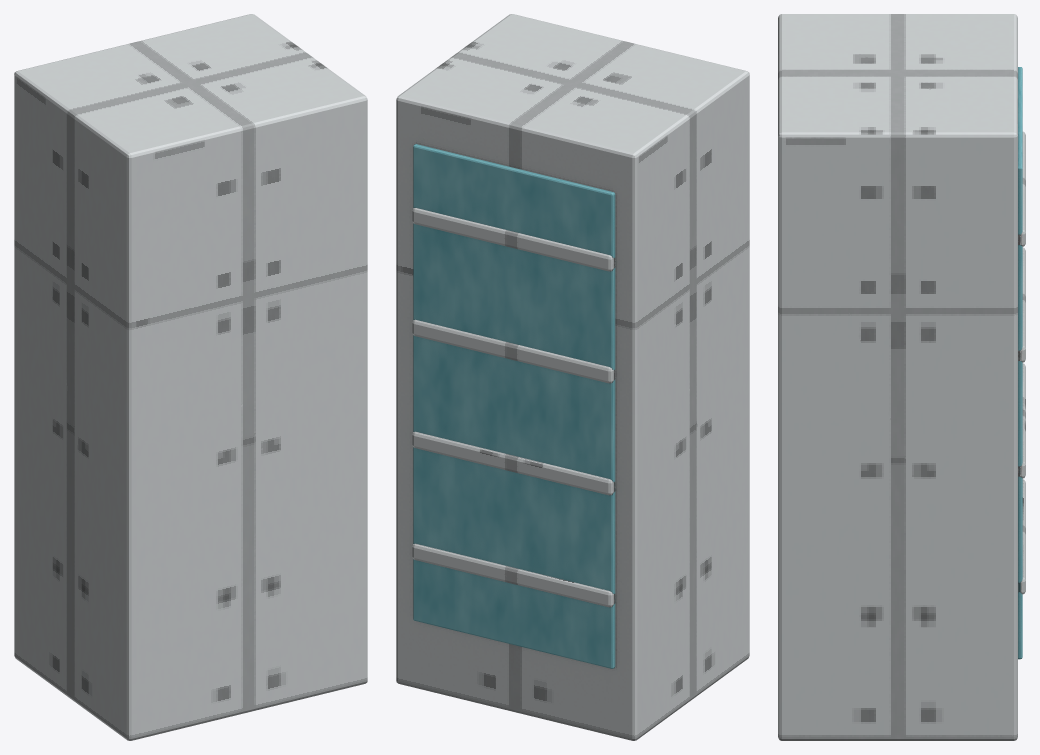
The model's file is base_sample_fridge.glb.
3 renders of one model, left to right at view 1: azimuth 30°, elevation 25°; view 2: azimuth 150°, elevation 25°; view 3: azimuth 270°, elevation 25°, orthographic. The views are drawn at different scales.
Parts seen in each view (by area): view 1: base_sample_fridge.003; view 2: base_sample_fridge.003; view 3: base_sample_fridge.003.
Boxes of the visible parts, box(x1,y1,x2,y2) form: base_sample_fridge.003: box(14, 14, 367, 740); base_sample_fridge.003: box(396, 14, 749, 740); base_sample_fridge.003: box(778, 14, 1025, 740).
Bounding box in the file's own units: 0.9 × 2.1 × 0.775.
2 materials, 2 textured.
